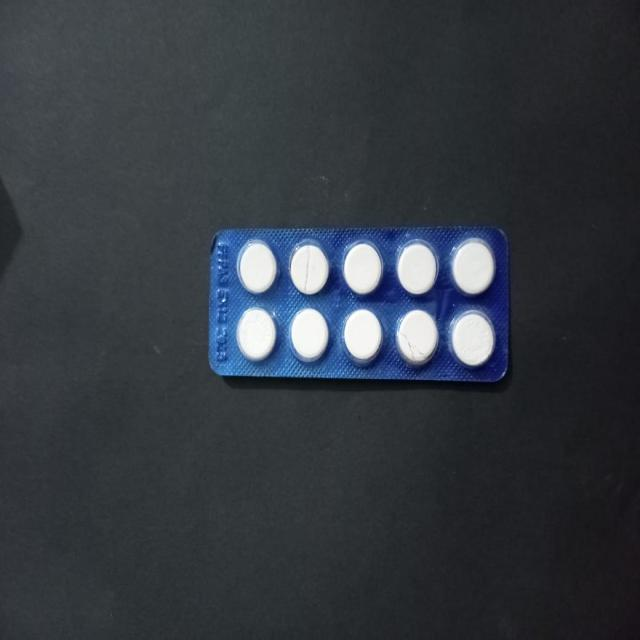defect: (394, 308, 441, 370), (287, 238, 333, 297)
